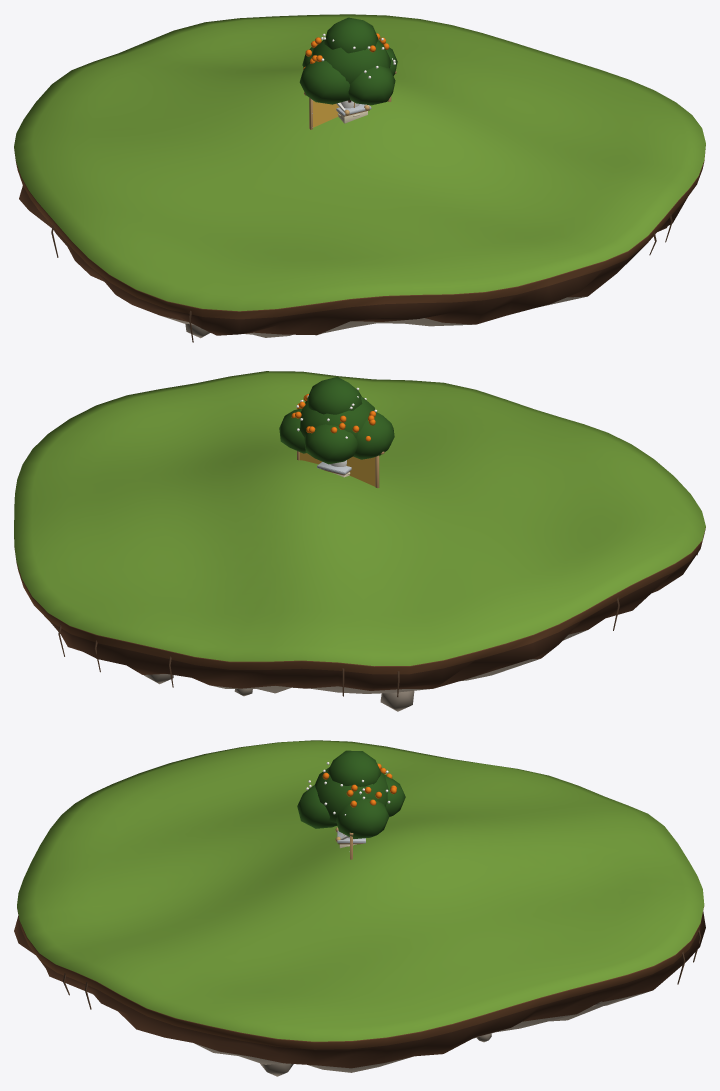
File: colmena.glb
The picture shows the model from 3 angles, top to bottom: view 1: azimuth 30°, elevation 25°; view 2: azimuth 150°, elevation 25°; view 3: azimuth 270°, elevation 25°; orthographic projection.
Parts seen in each view (by area): view 1: Loma, Arbol naranjo, Marco; view 2: Loma, Arbol naranjo, Marco; view 3: Loma, Arbol naranjo.
Boxes of the visible parts, box(x1,y1,x2,y2) form: Loma: box(14, 14, 705, 342); Arbol naranjo: box(299, 17, 397, 105); Marco: box(304, 71, 396, 129); Loma: box(14, 371, 705, 711); Arbol naranjo: box(279, 377, 394, 464); Marco: box(297, 451, 384, 488); Loma: box(14, 740, 705, 1076); Arbol naranjo: box(297, 750, 405, 838).
Bounding box in the file's own units: 12.8 × 6.02 × 12.74.
